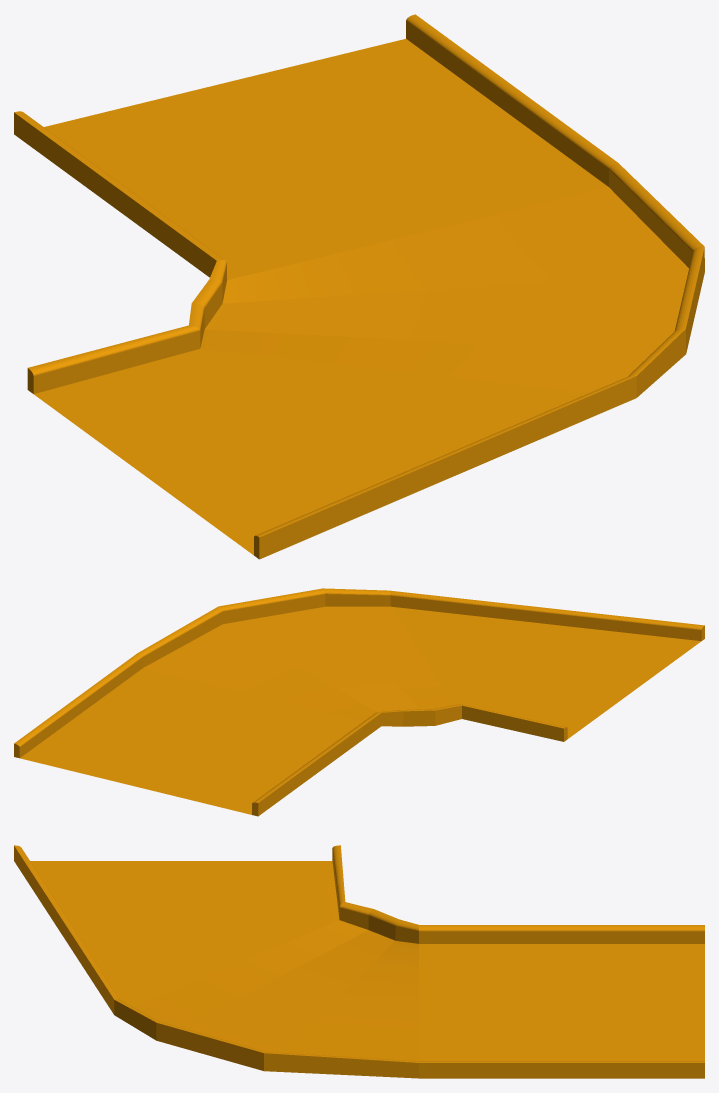
The picture shows the model from 3 angles, top to bottom: view 1: azimuth 30°, elevation 25°; view 2: azimuth 150°, elevation 25°; view 3: azimuth 270°, elevation 25°; orthographic projection. The views are drawn at different scales.
Parts seen in each view (by area): view 1: Plane; view 2: Plane; view 3: Plane.
Boxes of the visible parts, x1,y1,x2,y2 form: Plane: [14, 14, 704, 559]; Plane: [14, 588, 704, 816]; Plane: [14, 845, 704, 1078].
Size of the model in its own units: 12874 by 635 by 16913.
